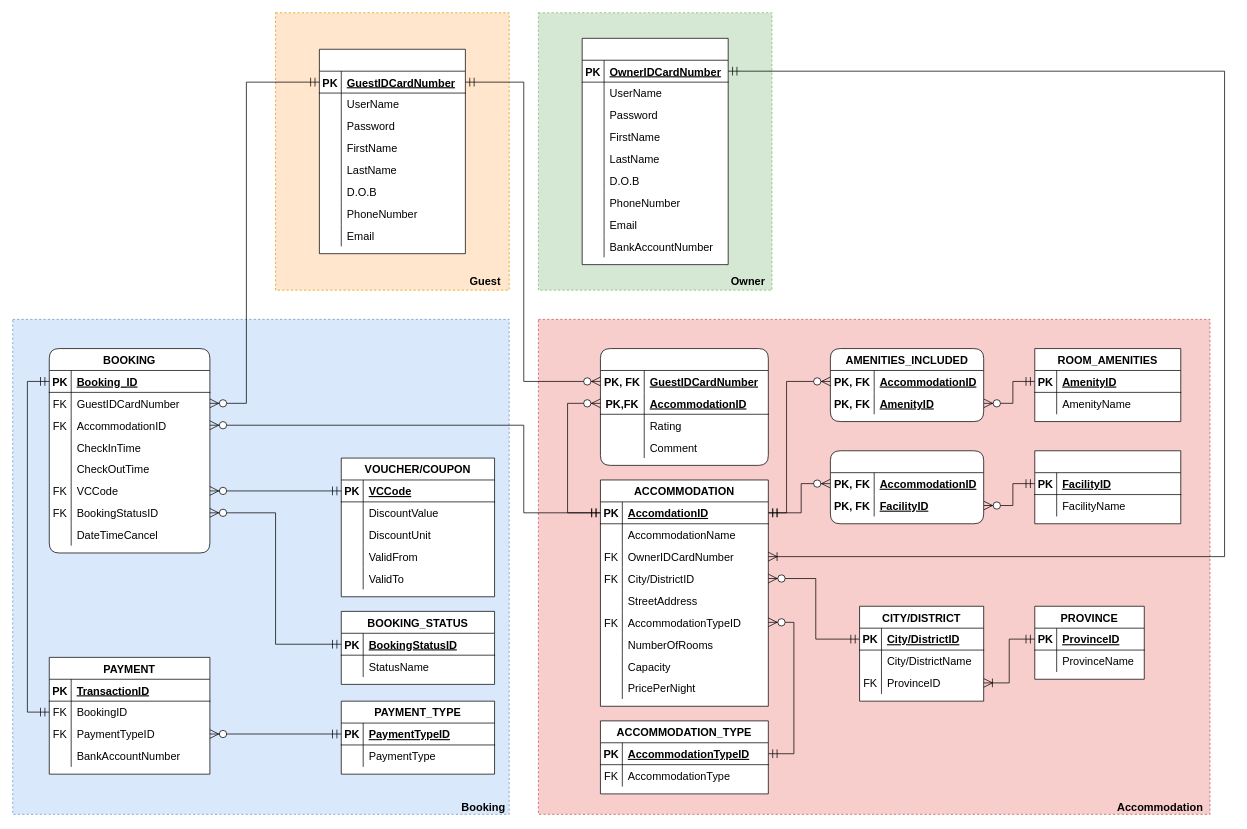
This 1247x829 diagram has some shape labels left out. Each missing label, with the box of its shape:
FACILITIES: (1034, 450, 1181, 524)
FACILITIES_INCLUDED: (830, 450, 984, 524)
FEEDBACK: (600, 348, 768, 465)
GUEST_ACCOUNT: (319, 49, 465, 254)
OWNER_ACCOUNT: (581, 38, 728, 265)
